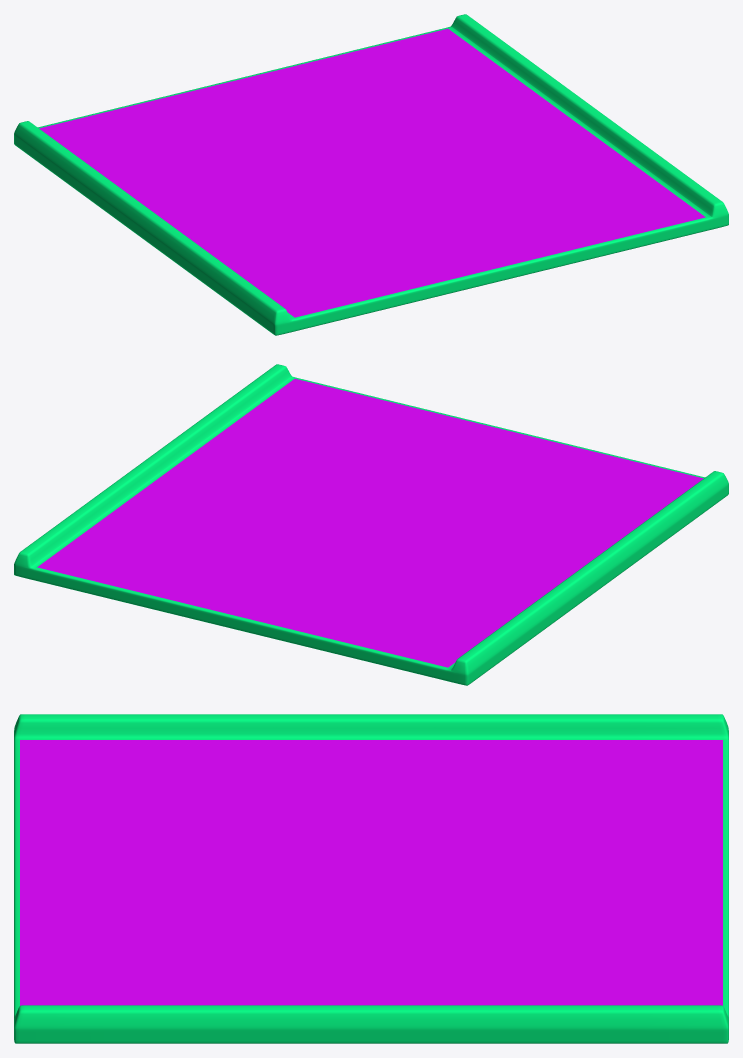
Rendered from prop_ox.FBX.
3 renders of one model, top to bottom at view 1: azimuth 30°, elevation 25°; view 2: azimuth 150°, elevation 25°; view 3: azimuth 270°, elevation 25°, orthographic. The views are drawn at different scales.
Bounding box in the file's own units: 60 × 2.92 × 59.99.
